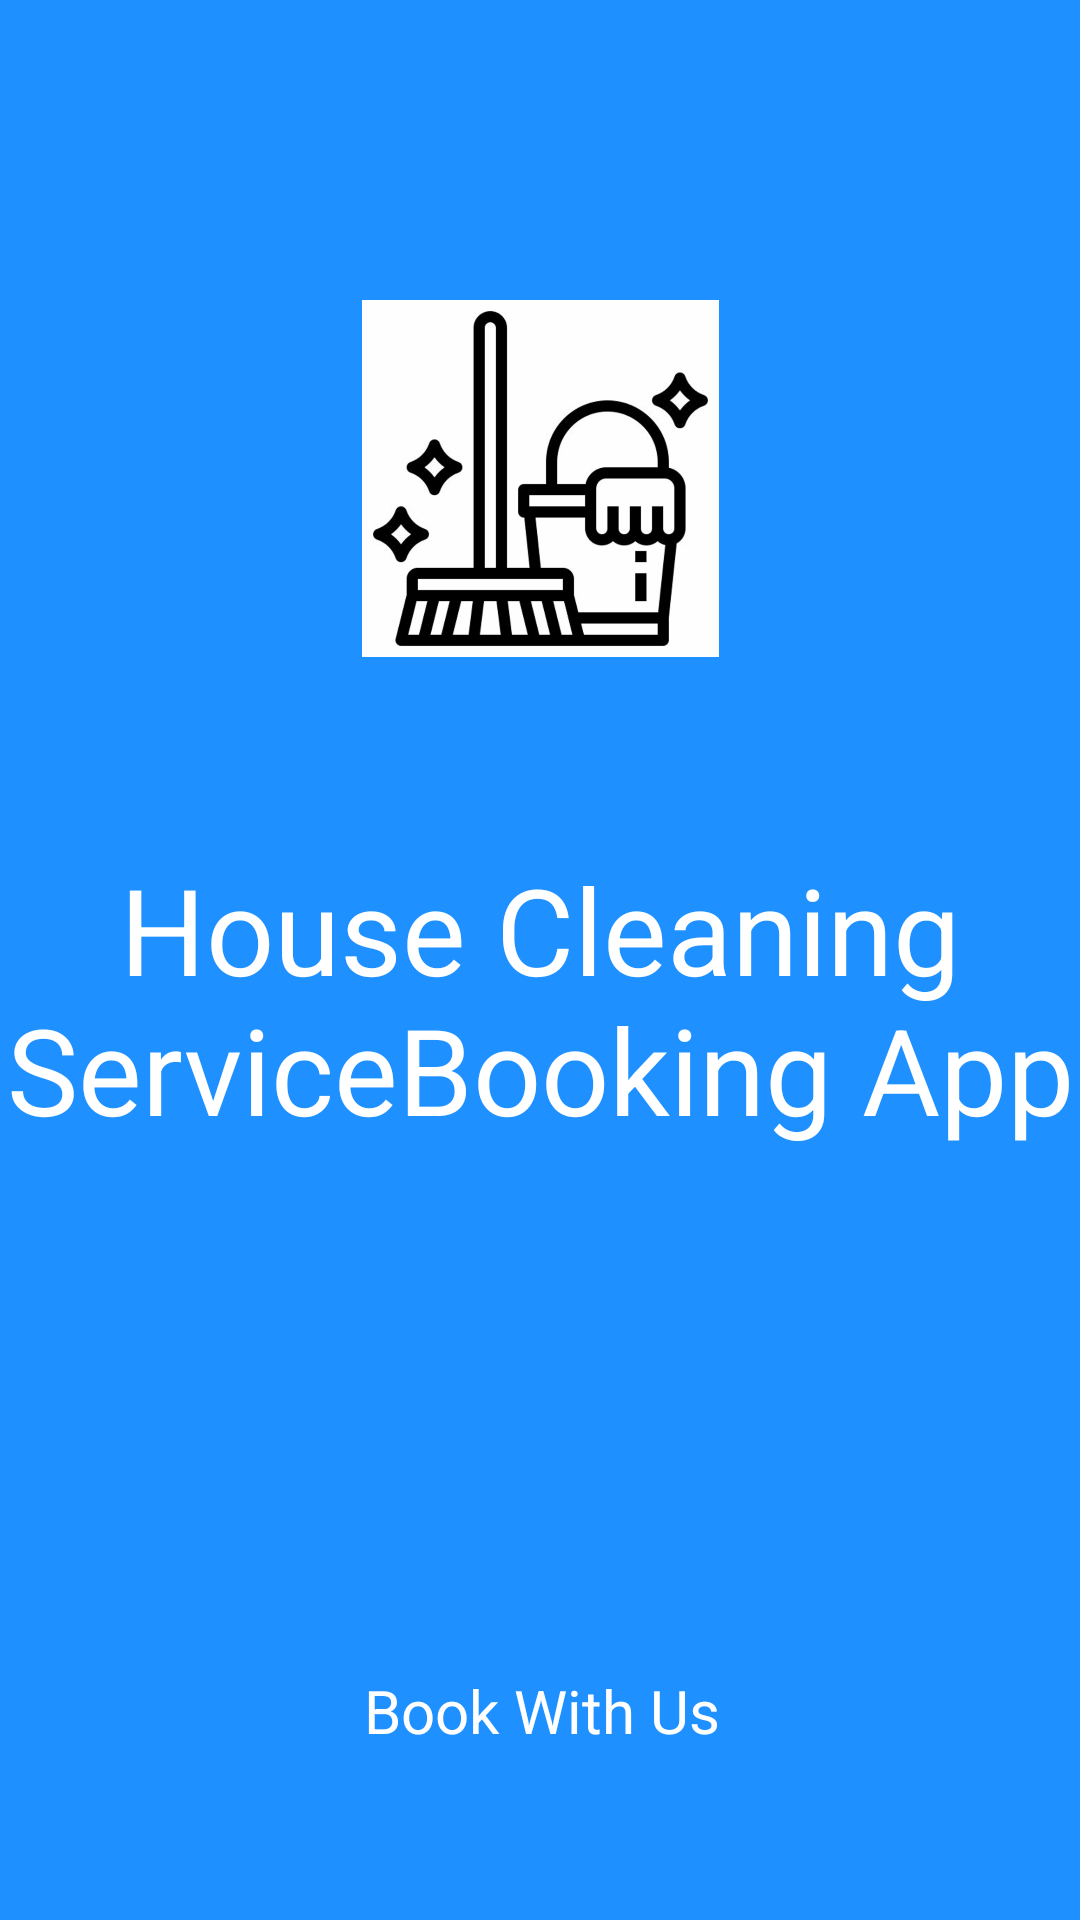

Icons on this 1080px x 1920px Android screen, each with its box as (x1, y1, x2, y2):
cleaningservice: (362, 300, 719, 657)
